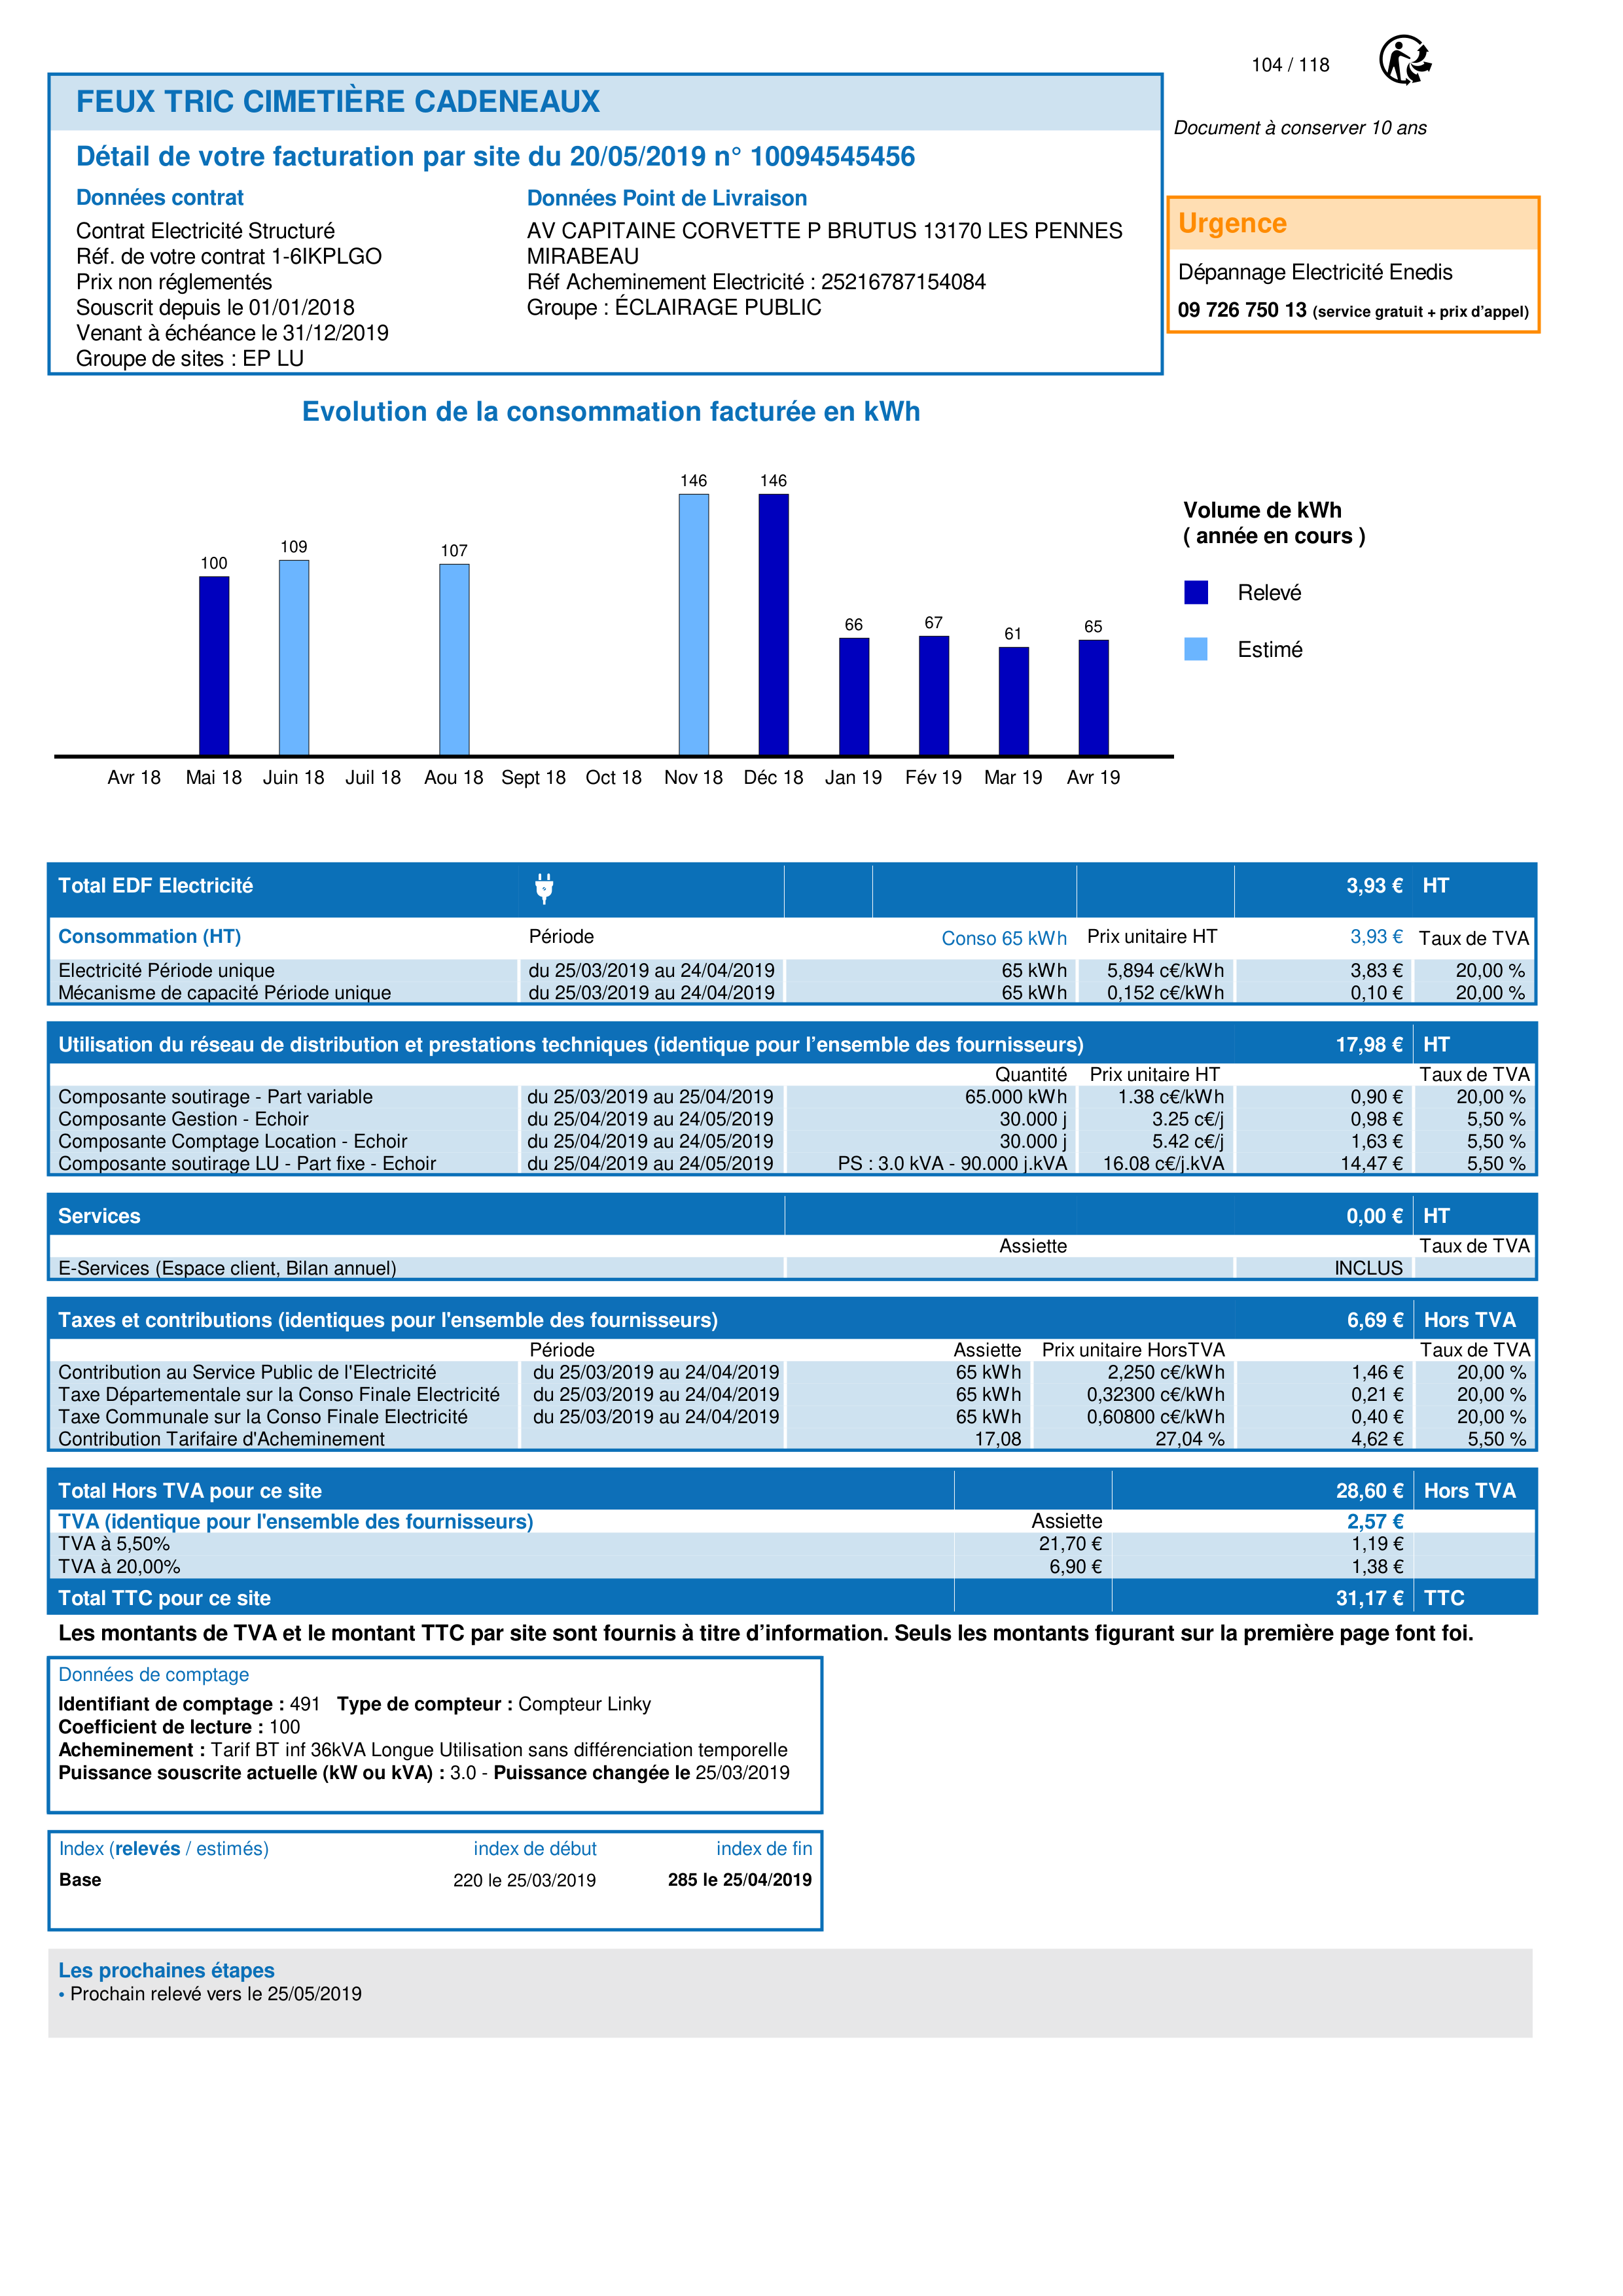area: (50, 1832, 823, 1932)
type_indicator: (50, 1833, 285, 1867)
